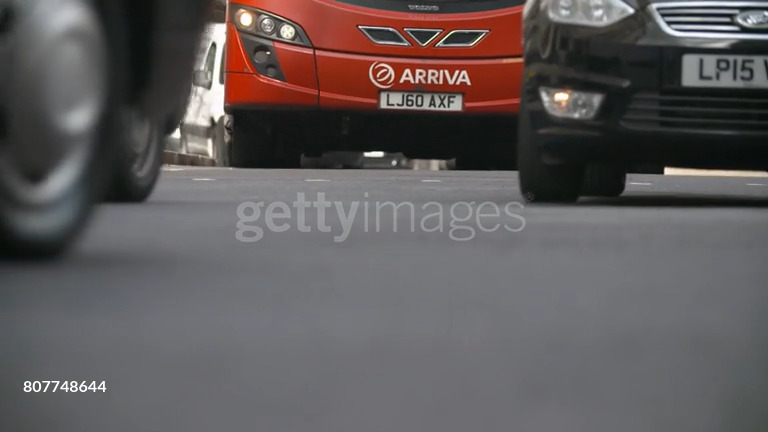car number: (680, 53, 765, 86), (378, 89, 463, 110)
